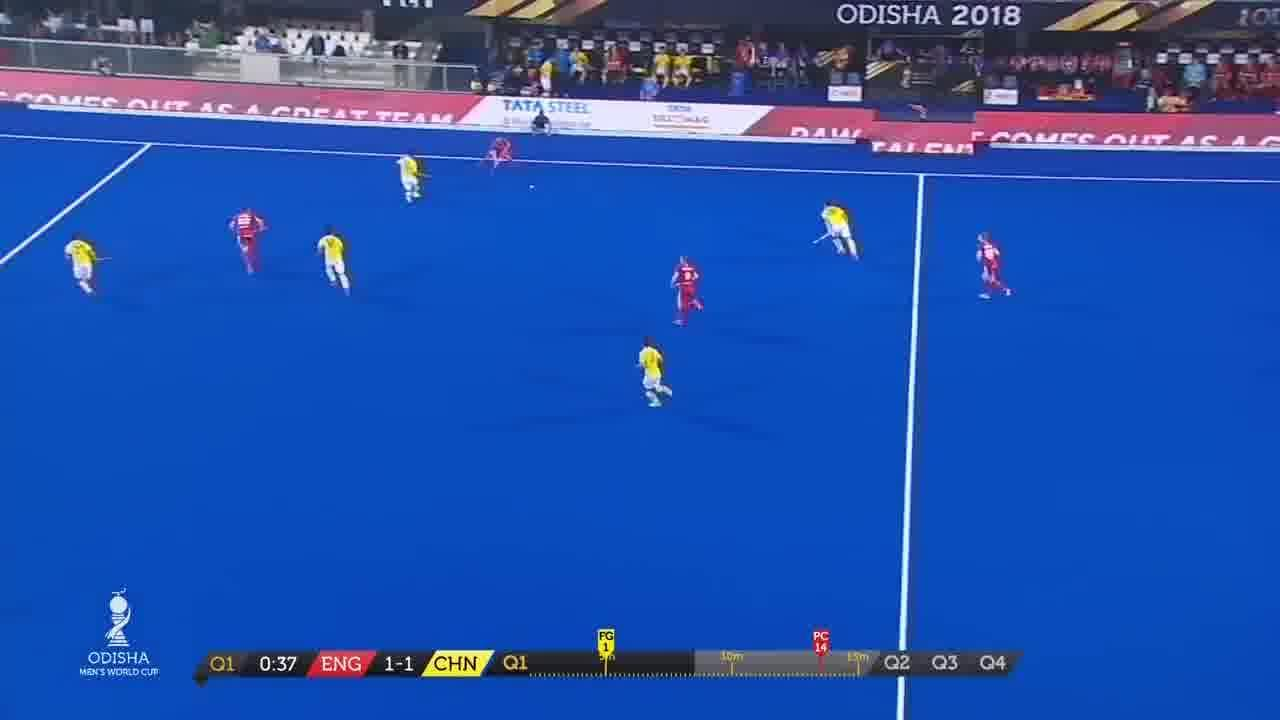ball: (529, 184, 538, 190)
